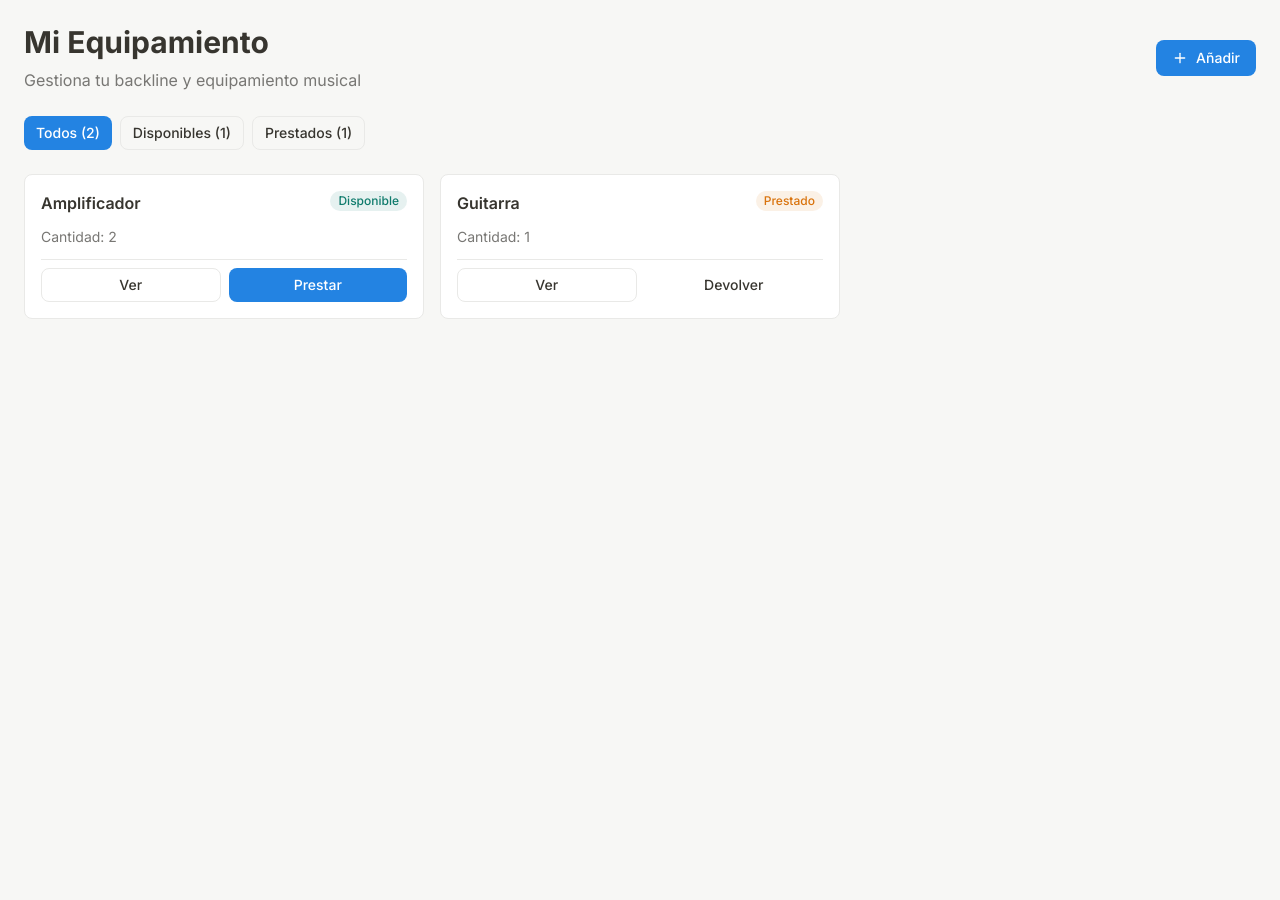
Scenario: Items › abre el formulario de préstamo con el item preseleccionado
Click the button "Prestar". click: {"x": 318, "y": 285}
box: [228,268,407,302]
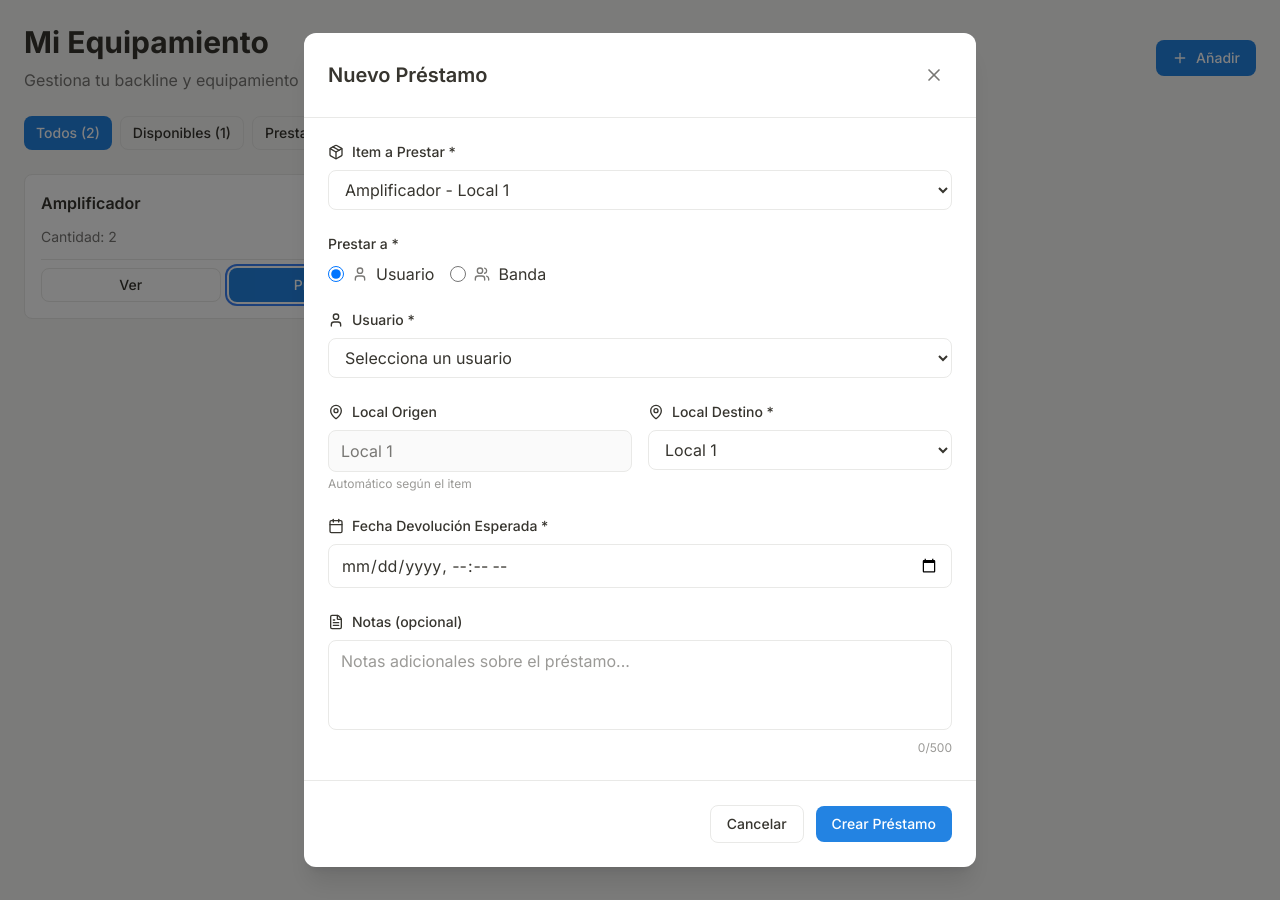
expect the heading "Nuevo Préstamo" is shown: met, box [328,61,488,89]
expect the dropdown showing "Amplificador - Local 1" below "Item a Prestar *" is shown: met, box [328,170,952,210]
